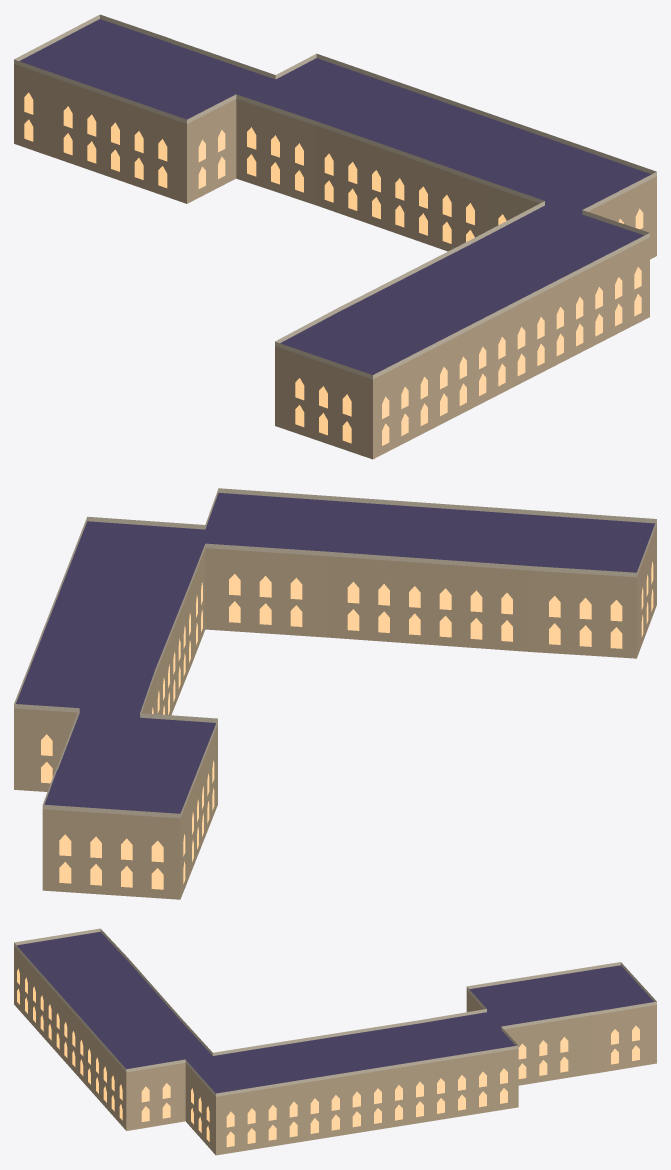
The picture shows the model from 3 angles, top to bottom: view 1: azimuth 30°, elevation 25°; view 2: azimuth 150°, elevation 25°; view 3: azimuth 270°, elevation 25°; orthographic projection. The views are drawn at different scales.
Visible parts, largest first — view 1: campus/b-120-0; view 2: campus/b-120-0; view 3: campus/b-120-0.
Boxes of the visible parts, box(x1,y1,x2,y2) form: campus/b-120-0: box(14, 14, 656, 459); campus/b-120-0: box(14, 488, 656, 899); campus/b-120-0: box(14, 928, 656, 1155).
Size of the model in its own units: 59.16 by 10.35 by 97.38.
